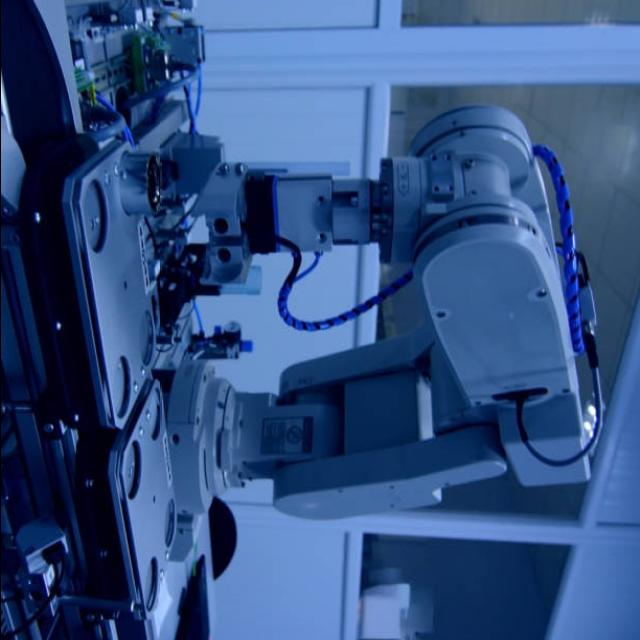Robotic-arm: (174, 99, 614, 528)
